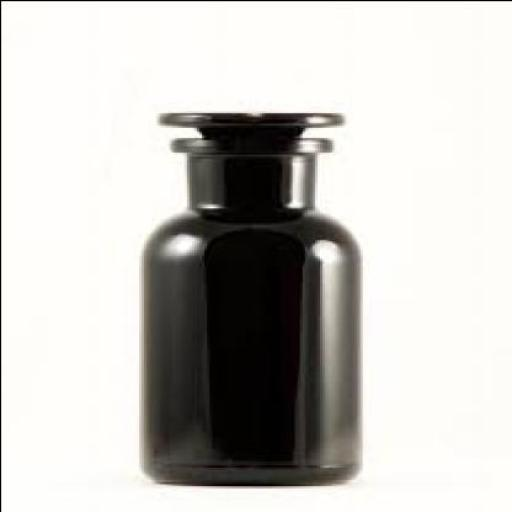glass: (140, 110, 360, 483)
